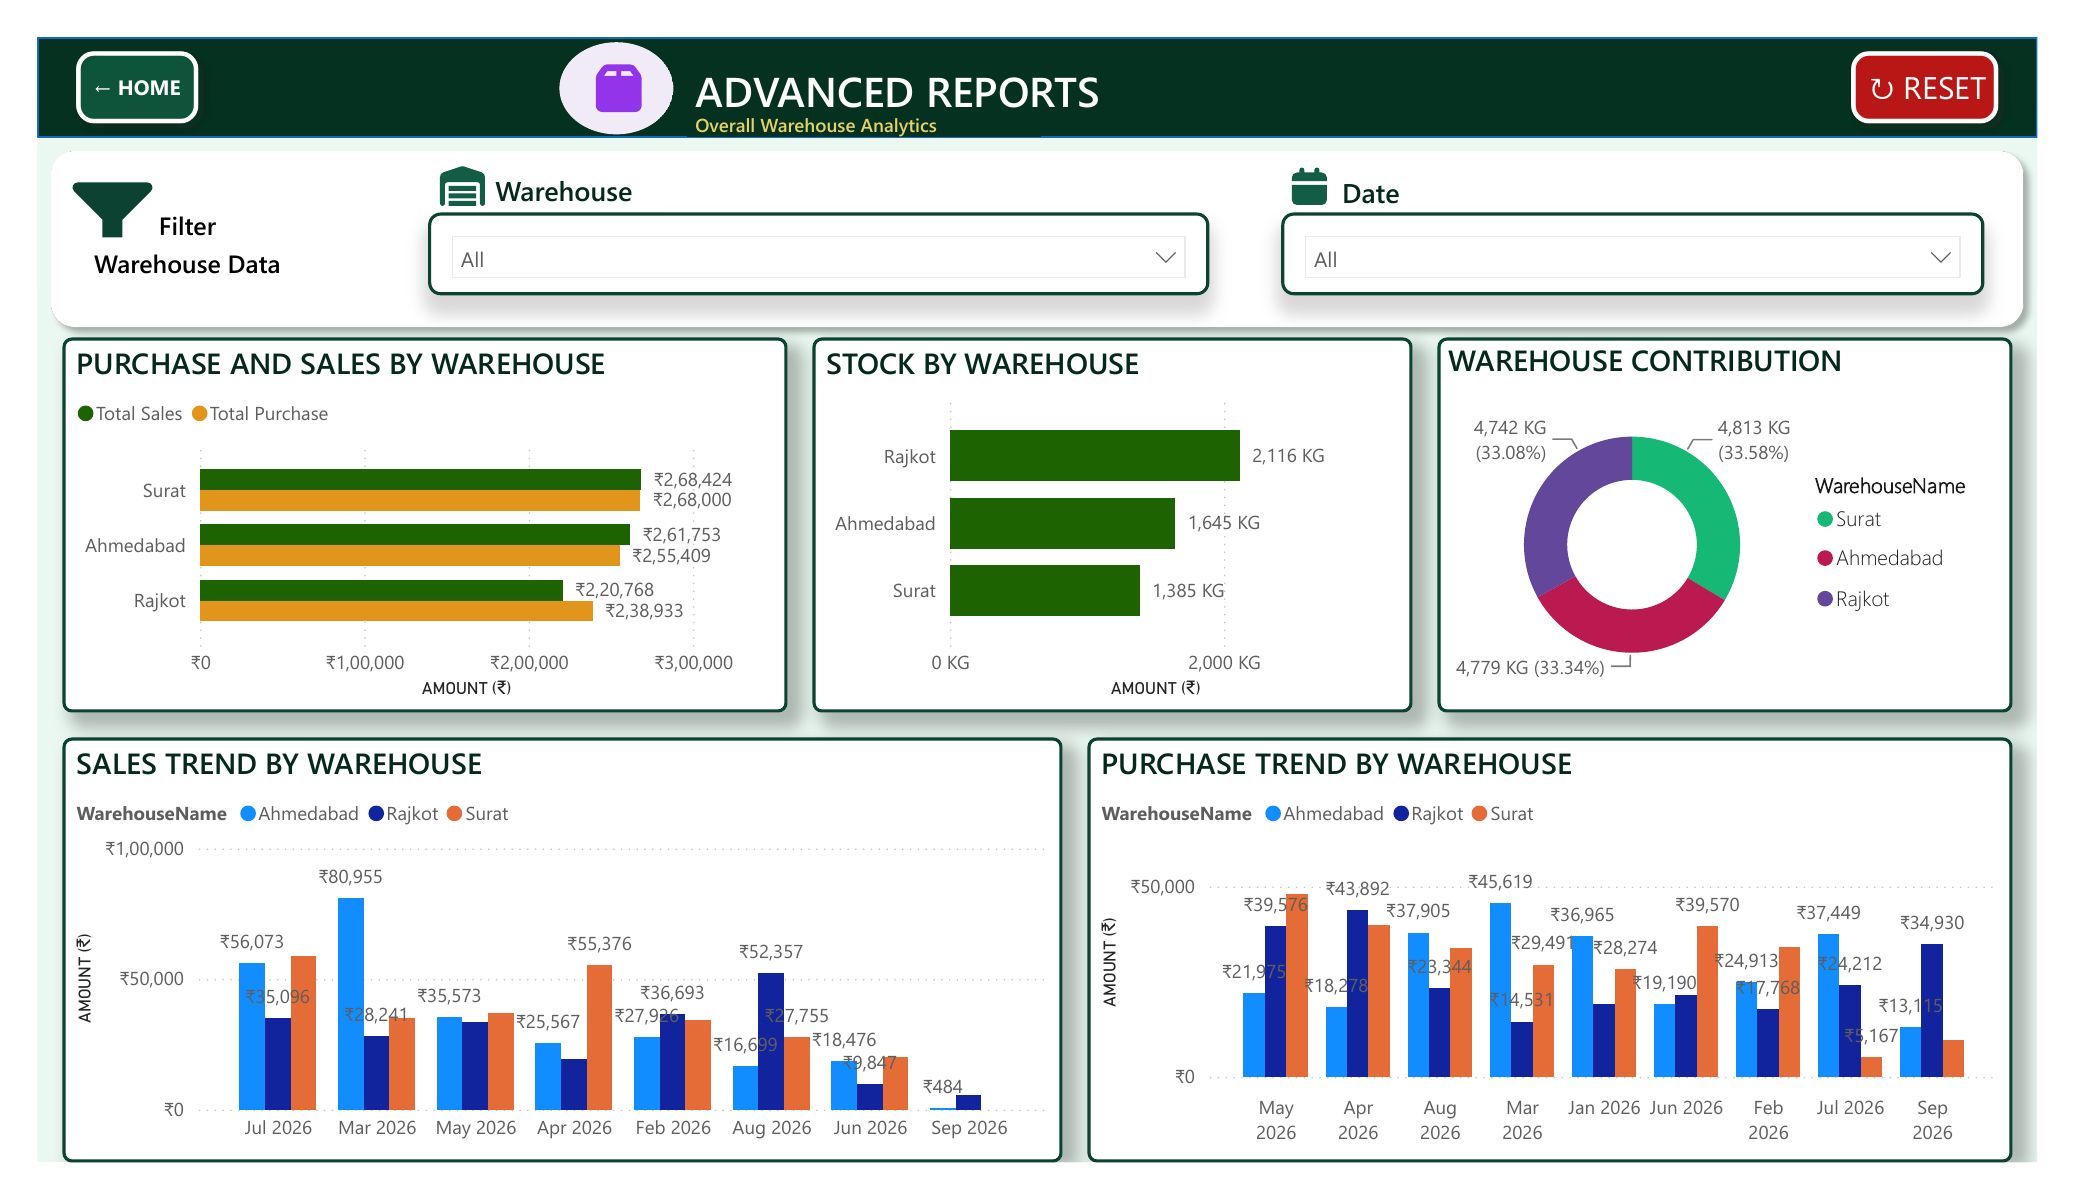

The dashboard page shown, as its layout file describes it:
{"tool":"powerbi","page":{"name":"ADVANCED REPORTS","canvas":[1280,720],"ordinal":5},"visuals":[{"type":"shape","box":[0,0,1280,64],"z":0},{"type":"actionButton","box":[16,0,96,64],"z":1000},{"type":"textbox","title":"ADVANCED REPORTS","box":[416,16,416,32],"z":2000},{"type":"textbox","title":"Overall Warehouse Analytics","box":[416,48,226,16],"z":3000},{"type":"actionButton","box":[1152,0,112,64],"z":4000},{"type":"shape","box":[0,64,1280,130],"z":5000},{"type":"shape","box":[64,96,64,48],"z":6000},{"type":"image","box":[16,80,64,64],"z":7000},{"type":"slicer","title":"Warehouse","fields":{"Values":["Warehouses.WarehouseName"]},"box":[250,112.2,500,53],"z":8000},{"type":"image","box":[256,79,32,32],"z":9000},{"type":"textbox","title":"Warehouse","box":[288,86,112,24],"z":10000},{"type":"image","box":[798.2,80,32,32],"z":11000},{"type":"textbox","title":"Date","box":[830.2,80,112,32],"z":12000},{"type":"shape","box":[16,128,160,32],"z":13000},{"type":"slicer","title":"Warehouse","fields":{"Values":["DateTable.Month Year"]},"box":[796.2,112,450,53],"z":14000},{"type":"shape","box":[334,0,73,65],"z":15000},{"type":"image","box":[328,12,88,42],"z":16000},{"type":"clusteredBarChart","title":"PURCHASE AND SALES BY WAREHOUSE","fields":{"Category":["Warehouses.WarehouseName"],"Y":["Sum(Sales.Total)","Sum(Purchase.Total)"]},"box":[16,192,464,240],"z":17000},{"type":"clusteredColumnChart","title":"SALES TREND BY WAREHOUSE","fields":{"Category":["DateTable.Month Year"],"Y":["Sum(Sales.Total)"],"Series":["Warehouses.WarehouseName"]},"box":[16,448,640,272],"z":18000},{"type":"clusteredColumnChart","title":"PURCHASE TREND BY WAREHOUSE","fields":{"Category":["DateTable.Month Year"],"Series":["Warehouses.WarehouseName"],"Y":["Sum(Purchase.Total)"]},"box":[672,448,592,272],"z":19000},{"type":"clusteredBarChart","title":"STOCK BY WAREHOUSE","fields":{"Y":["CropTable.Current Stock Qty"],"Category":["Warehouses.WarehouseName"]},"box":[496,192,384,240],"z":20000},{"type":"donutChart","title":"WAREHOUSE CONTRIBUTION","fields":{"Category":["Warehouses.WarehouseName"],"Y":["CropTable.Stock In Qty"]},"box":[896,192,368,240],"z":21000}]}

Visuals, with their boxes on the page's 1280x720 design canvas (x1, y1, x2, y2). These are canvas units, not pixel positions in the 2075x1200 screenshot, which may show the page scaled, cropped or inside an application window:
shape: region(0, 0, 1280, 64)
actionButton: region(16, 0, 112, 64)
"ADVANCED REPORTS" textbox: region(416, 16, 832, 48)
"Overall Warehouse Analytics" textbox: region(416, 48, 642, 64)
actionButton: region(1152, 0, 1264, 64)
shape: region(0, 64, 1280, 194)
shape: region(64, 96, 128, 144)
image: region(16, 80, 80, 144)
"Warehouse" slicer: region(250, 112, 750, 165)
image: region(256, 79, 288, 111)
"Warehouse" textbox: region(288, 86, 400, 110)
image: region(798, 80, 830, 112)
"Date" textbox: region(830, 80, 942, 112)
shape: region(16, 128, 176, 160)
"Warehouse" slicer: region(796, 112, 1246, 165)
shape: region(334, 0, 407, 65)
image: region(328, 12, 416, 54)
"PURCHASE AND SALES BY WAREHOUSE" clusteredBarChart: region(16, 192, 480, 432)
"SALES TREND BY WAREHOUSE" clusteredColumnChart: region(16, 448, 656, 720)
"PURCHASE TREND BY WAREHOUSE" clusteredColumnChart: region(672, 448, 1264, 720)
"STOCK BY WAREHOUSE" clusteredBarChart: region(496, 192, 880, 432)
"WAREHOUSE CONTRIBUTION" donutChart: region(896, 192, 1264, 432)
